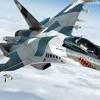maybay_muctieu: (2, 3, 100, 83)
